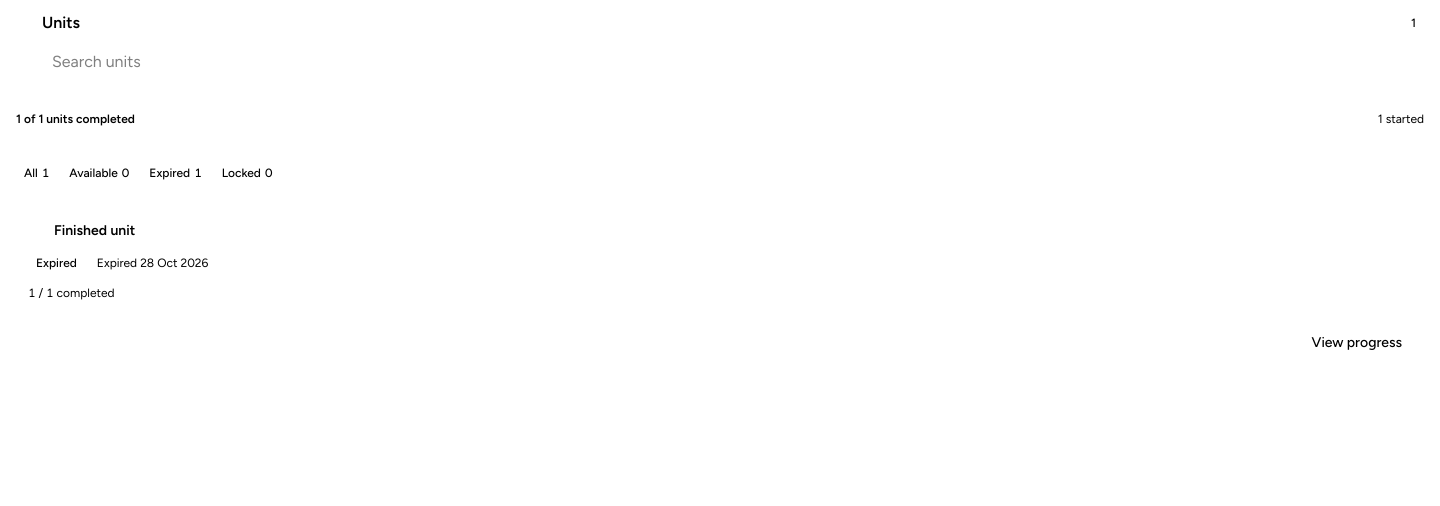
loads named progress only on expansion, preserves expired completion and reuses the material cache
This screenshot has width=1440, height=506.
expect the heading "Finished unit" is shown: met, box [54,222,135,239]
expect the text "1 of 1 units completed" is shown: met, box [16,111,135,127]
Step 1. Click the button with aria-label "View progress: Finished unit" → {"x": 1357, "y": 343}, box [1302,327,1412,359]
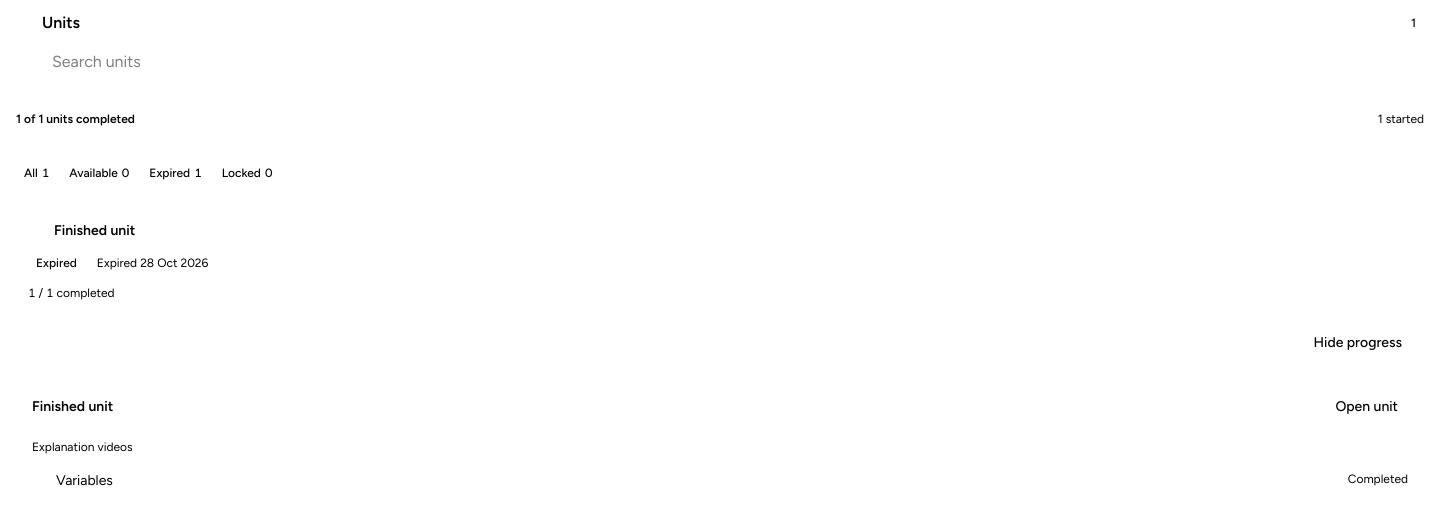
expect the text "Variables" is shown: met, box [56,472,113,489]
expect the text "Completed" is shown: met, box [1348,471,1408,487]
Step 2. Click the button with aria-label "Hide progress: Finished unit" → {"x": 1358, "y": 343}, box [1304,327,1412,359]
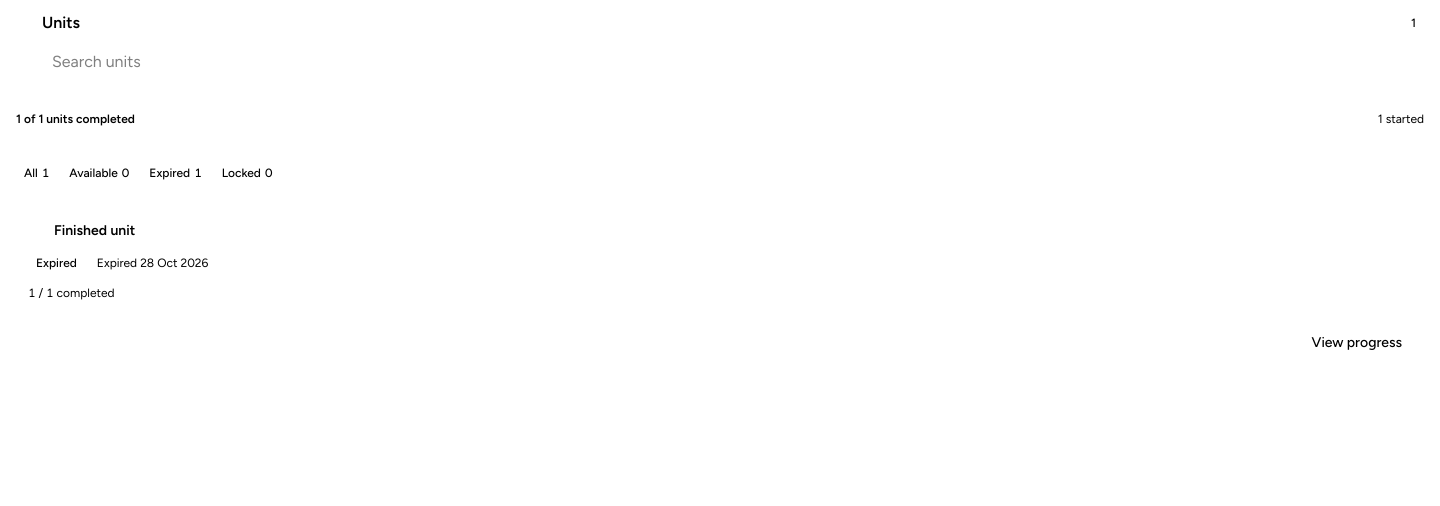
Step 3. Click the button with aria-label "View progress: Finished unit" → {"x": 1357, "y": 343}, box [1302,327,1412,359]
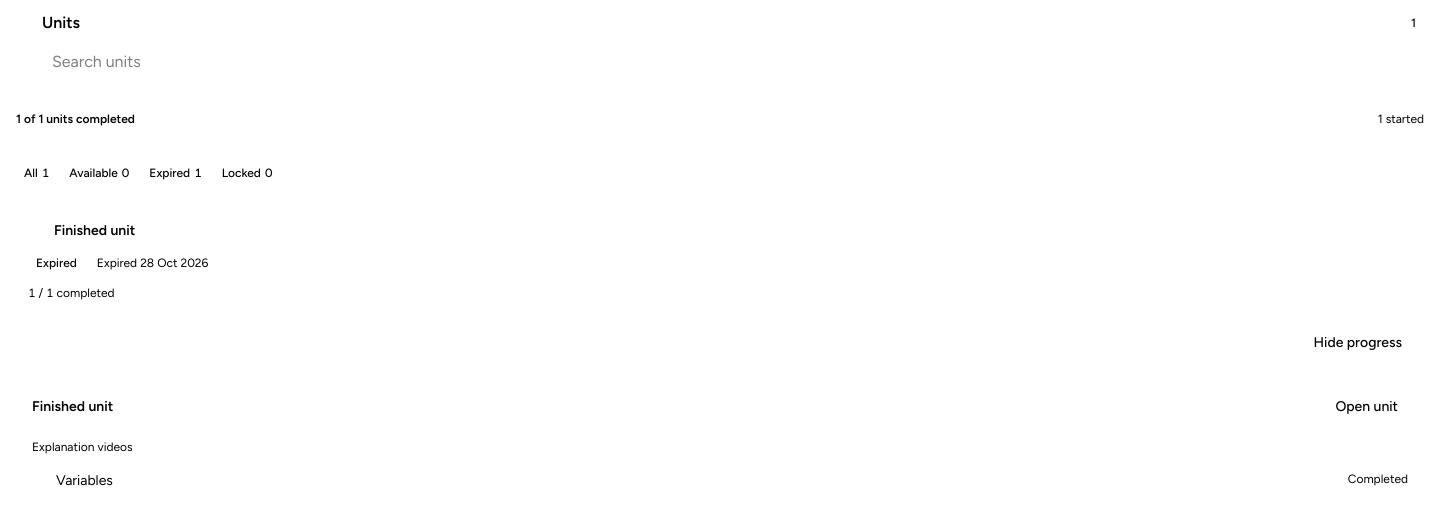
expect the text "Variables" is shown: met, box [56,472,113,489]
